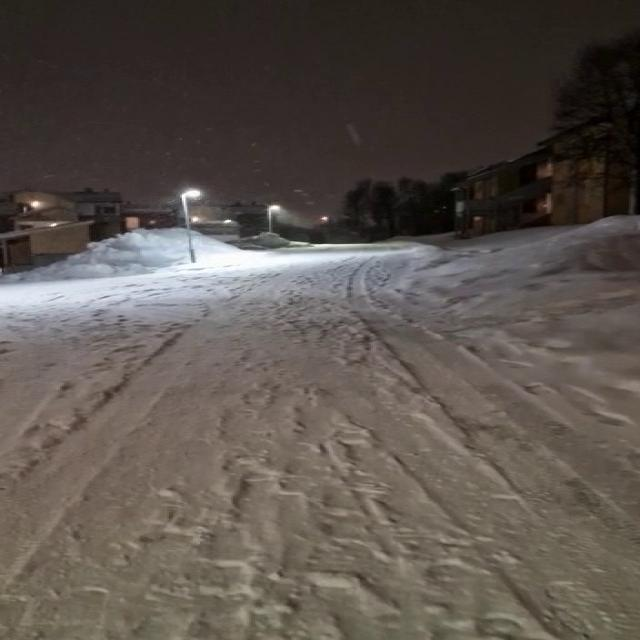path: (0, 247, 640, 640)
